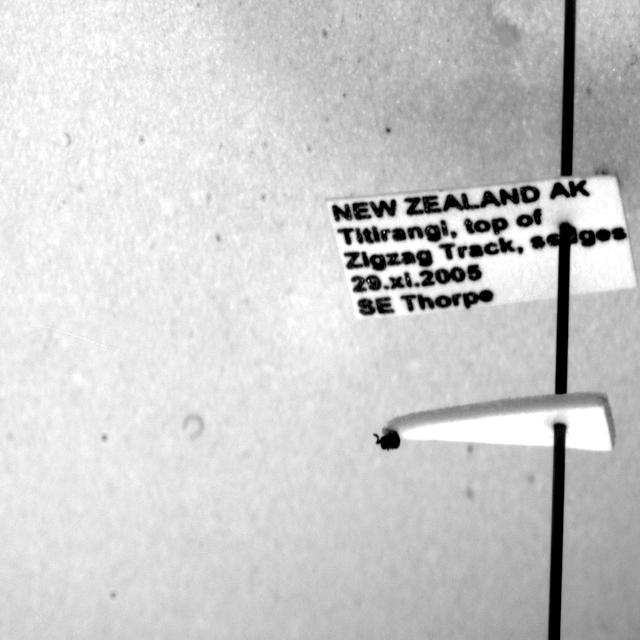typed_label: (328, 176, 636, 317)
